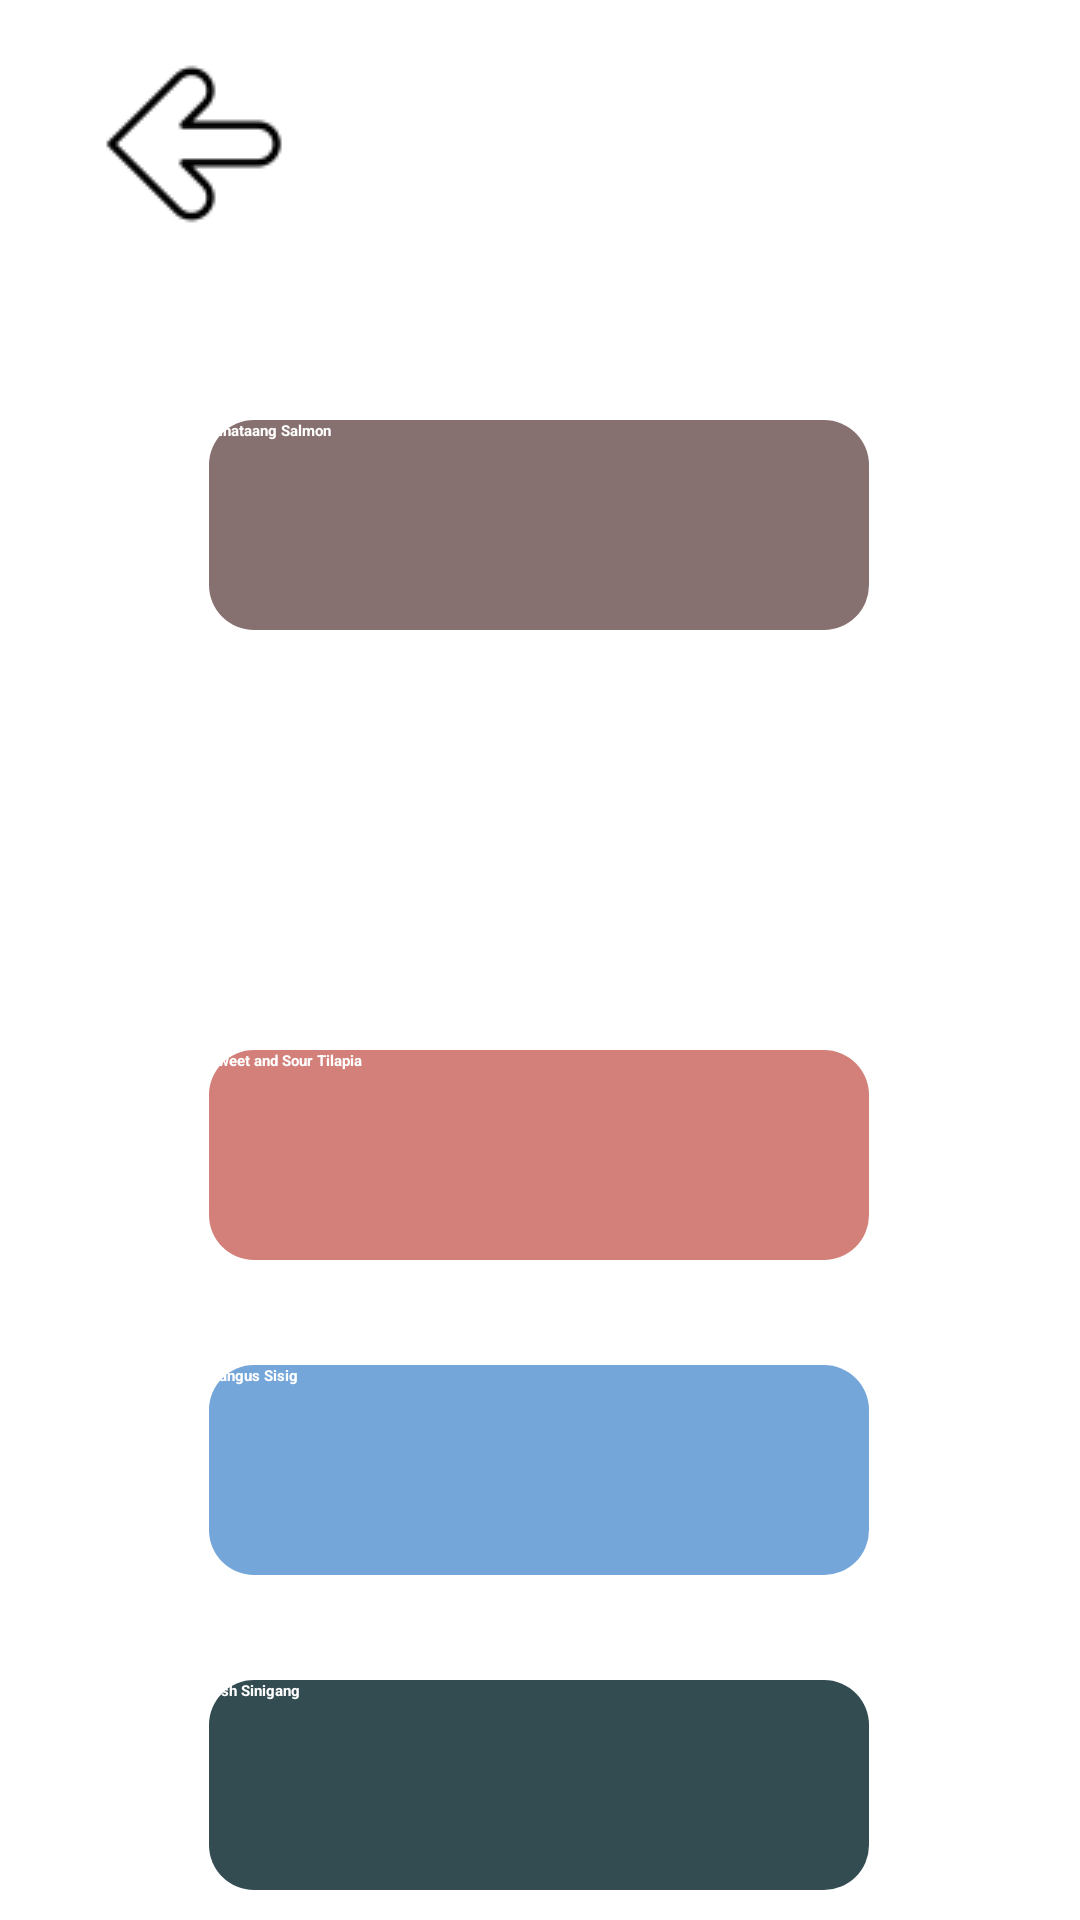

Icon bounding boxes for this 1080px×1920px phone screenshot, format (x1, y1, x2, y2):
back: (106, 65, 282, 223)
